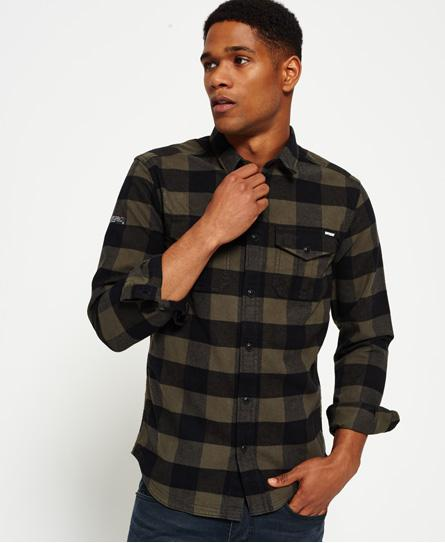teeshirt: (86, 126, 402, 515)
